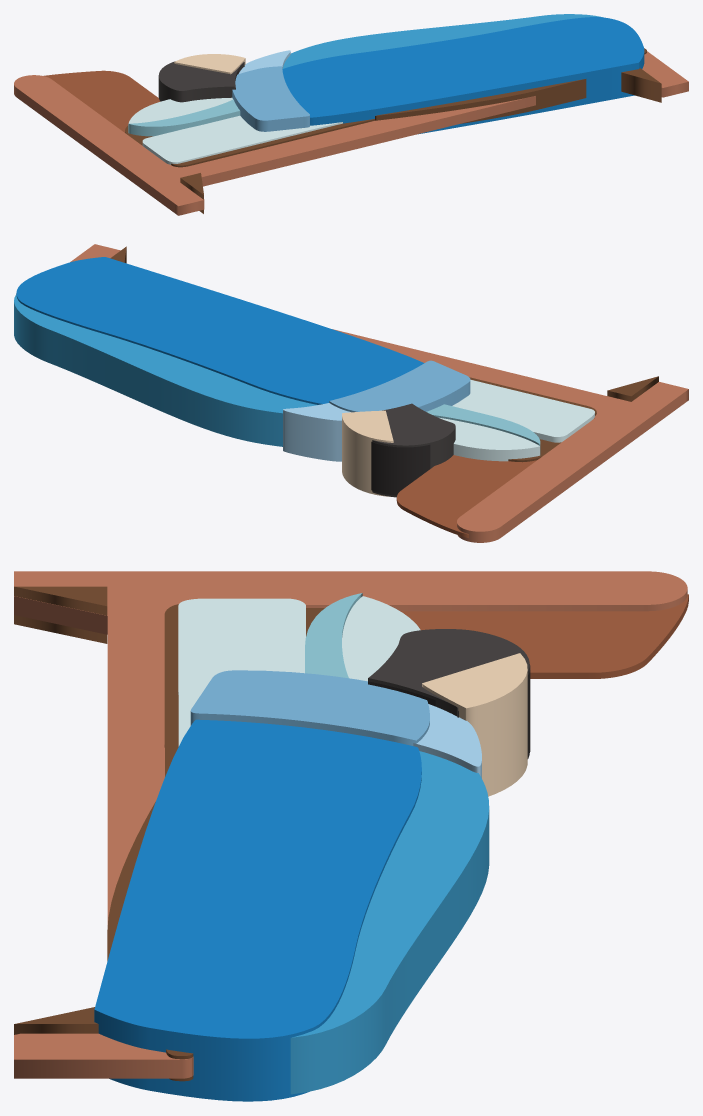
Rendered from emoji_u1f6cc_1f3fb.glb.
The picture shows the model from 3 angles, top to bottom: view 1: azimuth 30°, elevation 25°; view 2: azimuth 150°, elevation 25°; view 3: azimuth 270°, elevation 25°; orthographic projection. The views are drawn at different scales.
Visible parts, largest first — view 1: emoji_u1f6cc_1f3fb; view 2: emoji_u1f6cc_1f3fb; view 3: emoji_u1f6cc_1f3fb.
Boxes of the visible parts, <box> form: emoji_u1f6cc_1f3fb: <box>14,14,688,215</box>; emoji_u1f6cc_1f3fb: <box>14,244,688,542</box>; emoji_u1f6cc_1f3fb: <box>14,571,688,1101</box>.
Size of the model in its own units: 0.0334 by 0.003 by 0.0195.
